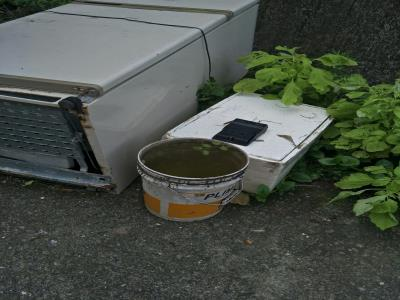bucket: (132, 135, 251, 225)
styrofoam: (159, 86, 338, 200)
